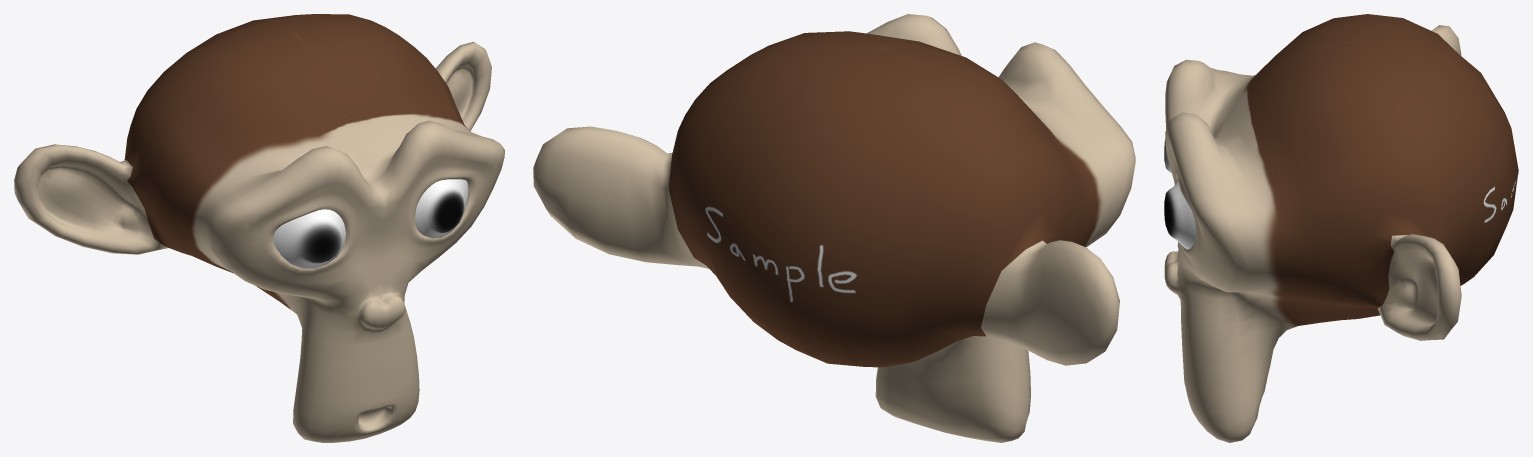
The model's file is monkey.glb.
3 views of the same model, side by side, from view 1: azimuth 30°, elevation 25°; view 2: azimuth 150°, elevation 25°; view 3: azimuth 270°, elevation 25° (orthographic). The views are drawn at different scales.
Parts seen in each view (by area): view 1: Suzanne; view 2: Suzanne; view 3: Suzanne.
Boxes of the visible parts, left/top/right/bottom form: Suzanne: left=14, top=14, right=504, bottom=442; Suzanne: left=533, top=14, right=1135, bottom=442; Suzanne: left=1164, top=14, right=1518, bottom=442.
Size of the model in its own units: 2.65 by 1.91 by 1.6.
1 material, 1 textured.
